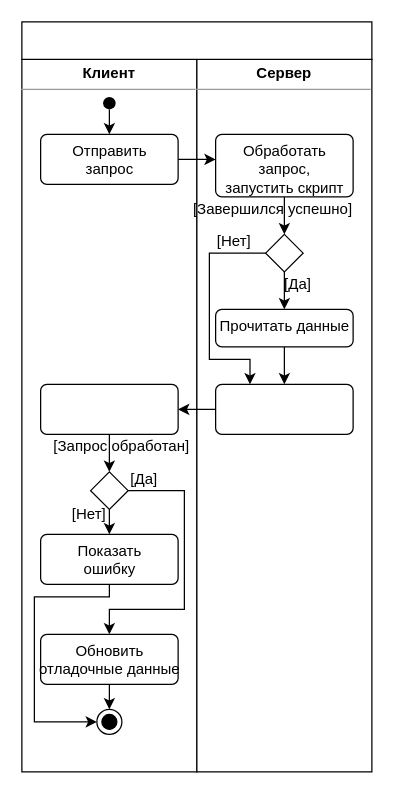
The diagram is 394 pixels wide and 794 high, and some of its shapes have lost their labels. Here are the shapes that lost their labels. From the top down, the centre of each, then its label:
At [196,40]: "Отладка".
At [108,408]: "Получить ответ".
At [283,408]: "Сформировать ответ".
